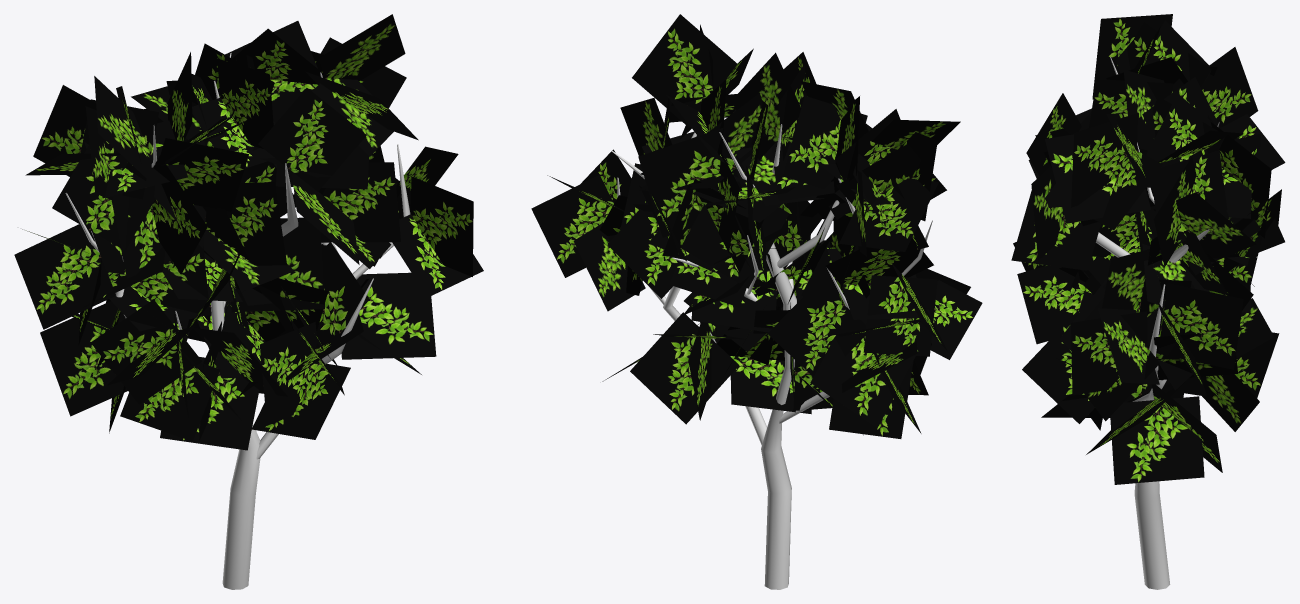
The model's file is Tree10.fbx.
3 views of the same model, side by side, from view 1: azimuth 30°, elevation 25°; view 2: azimuth 150°, elevation 25°; view 3: azimuth 270°, elevation 25° (orthographic). The views are drawn at different scales.
Parts seen in each view (by area): view 1: Tree10; view 2: Tree10; view 3: Tree10.
Boxes of the visible parts, x1=… form: Tree10: x1=14, y1=14, x2=483, y2=589; Tree10: x1=531, y1=14, x2=982, y2=589; Tree10: x1=1011, y1=14, x2=1285, y2=589.
Size of the model in its own units: 851 by 1017 by 476.
